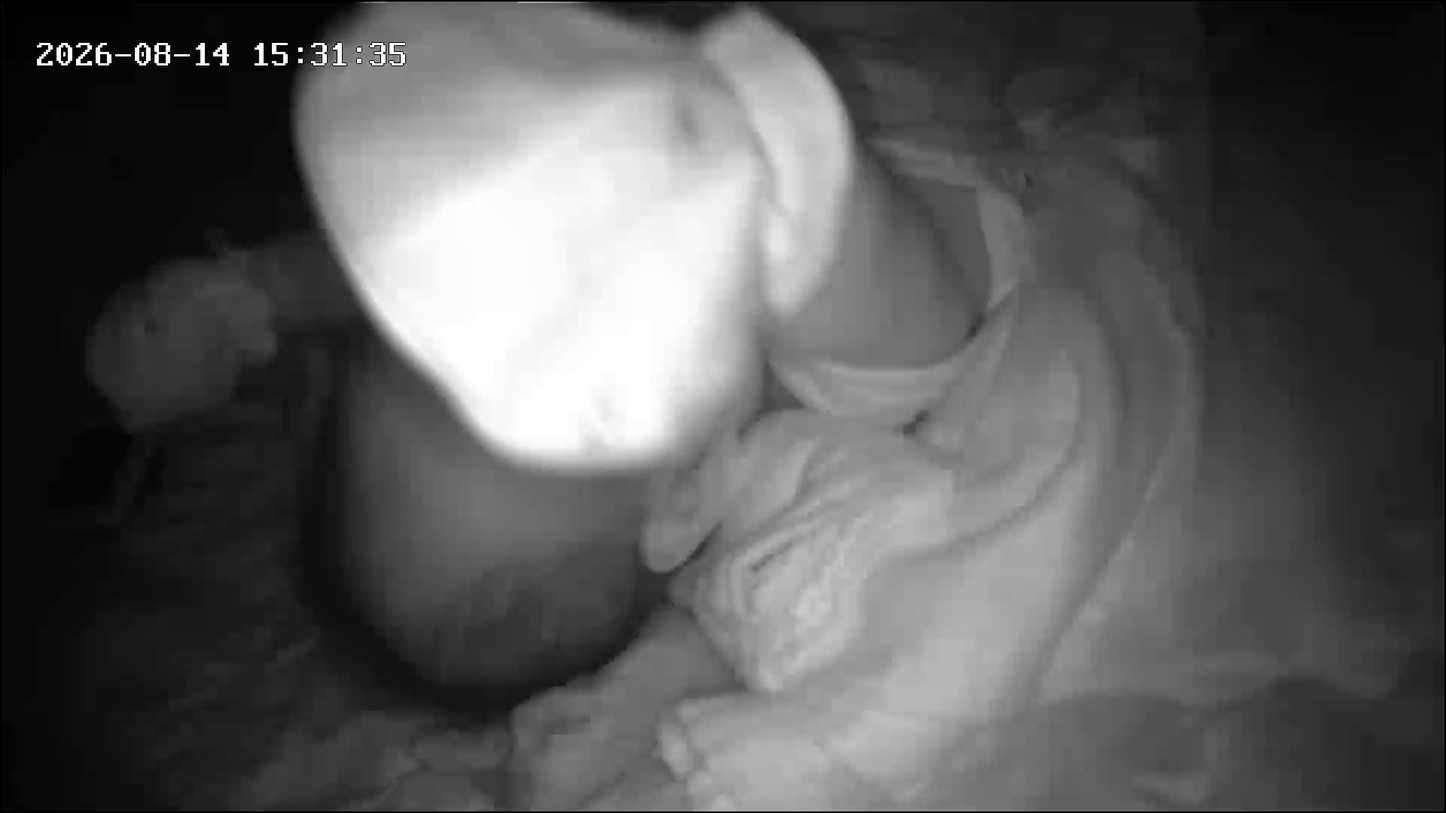baby: (159, 0, 1243, 799)
